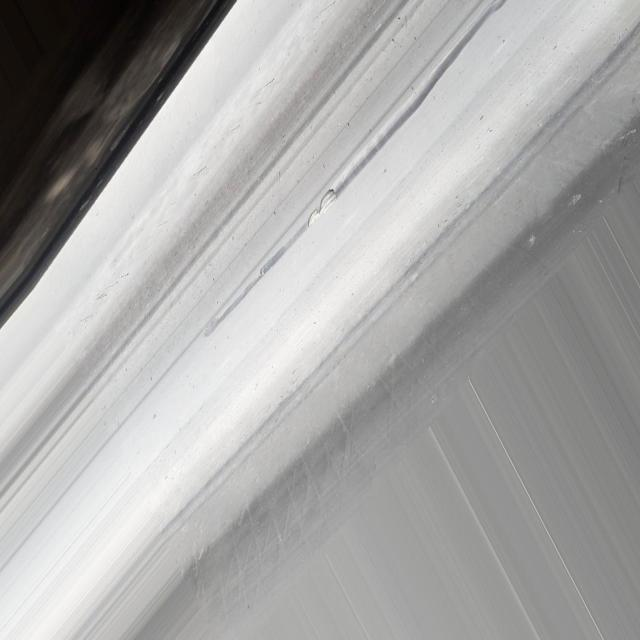Impact Damage: (306, 181, 340, 233)
